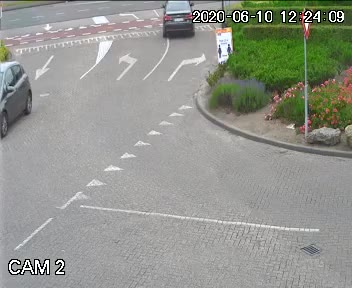car: (0, 52, 36, 148), (162, 0, 197, 39)
